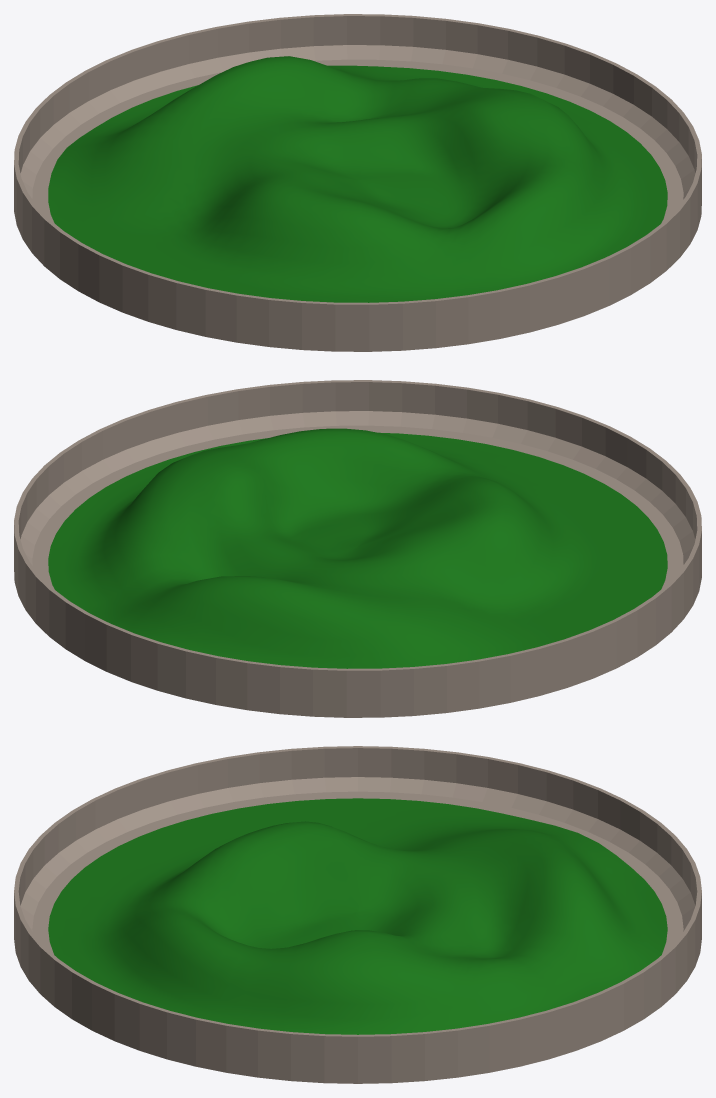
File: home.glb
3 views of the same model, one above another, from view 1: azimuth 30°, elevation 25°; view 2: azimuth 150°, elevation 25°; view 3: azimuth 270°, elevation 25° (orthographic).
Parts seen in each view (by area): view 1: Circle_1, stage-large-01; view 2: Circle_1, stage-large-01; view 3: Circle_1, stage-large-01.
Part boxes in pixels (box(x1,y1,x2,y2)): Circle_1: box(48, 56, 667, 302); stage-large-01: box(14, 14, 701, 351); Circle_1: box(48, 428, 667, 668); stage-large-01: box(14, 380, 701, 717); Circle_1: box(48, 798, 667, 1034); stage-large-01: box(14, 746, 701, 1083).
Bounding box in the file's own units: 544 × 60.72 × 544.
